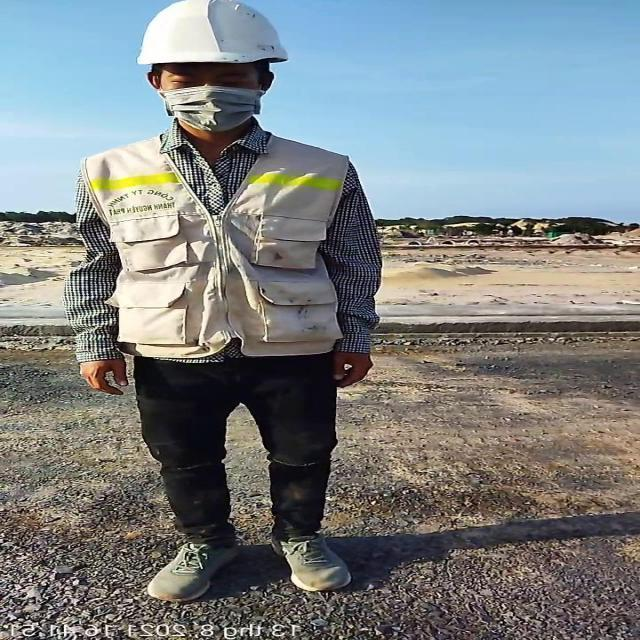helmet: (125, 0, 296, 76)
safety_vest: (69, 122, 358, 363)
